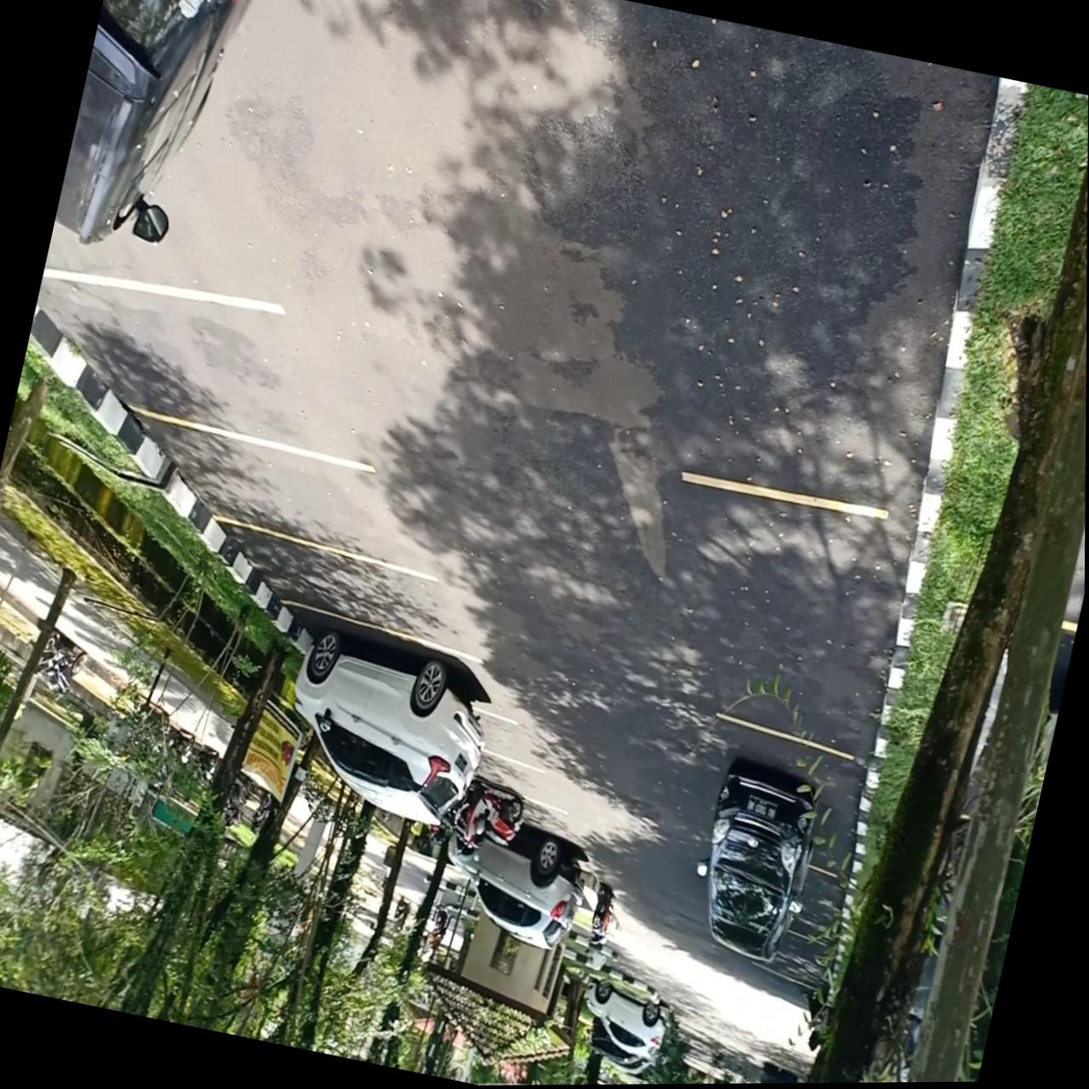cars: (264, 595, 515, 723), (719, 715, 875, 884), (741, 842, 854, 949)
empty: (685, 476, 927, 768), (46, 272, 367, 466), (104, 403, 431, 580), (201, 513, 481, 662)
